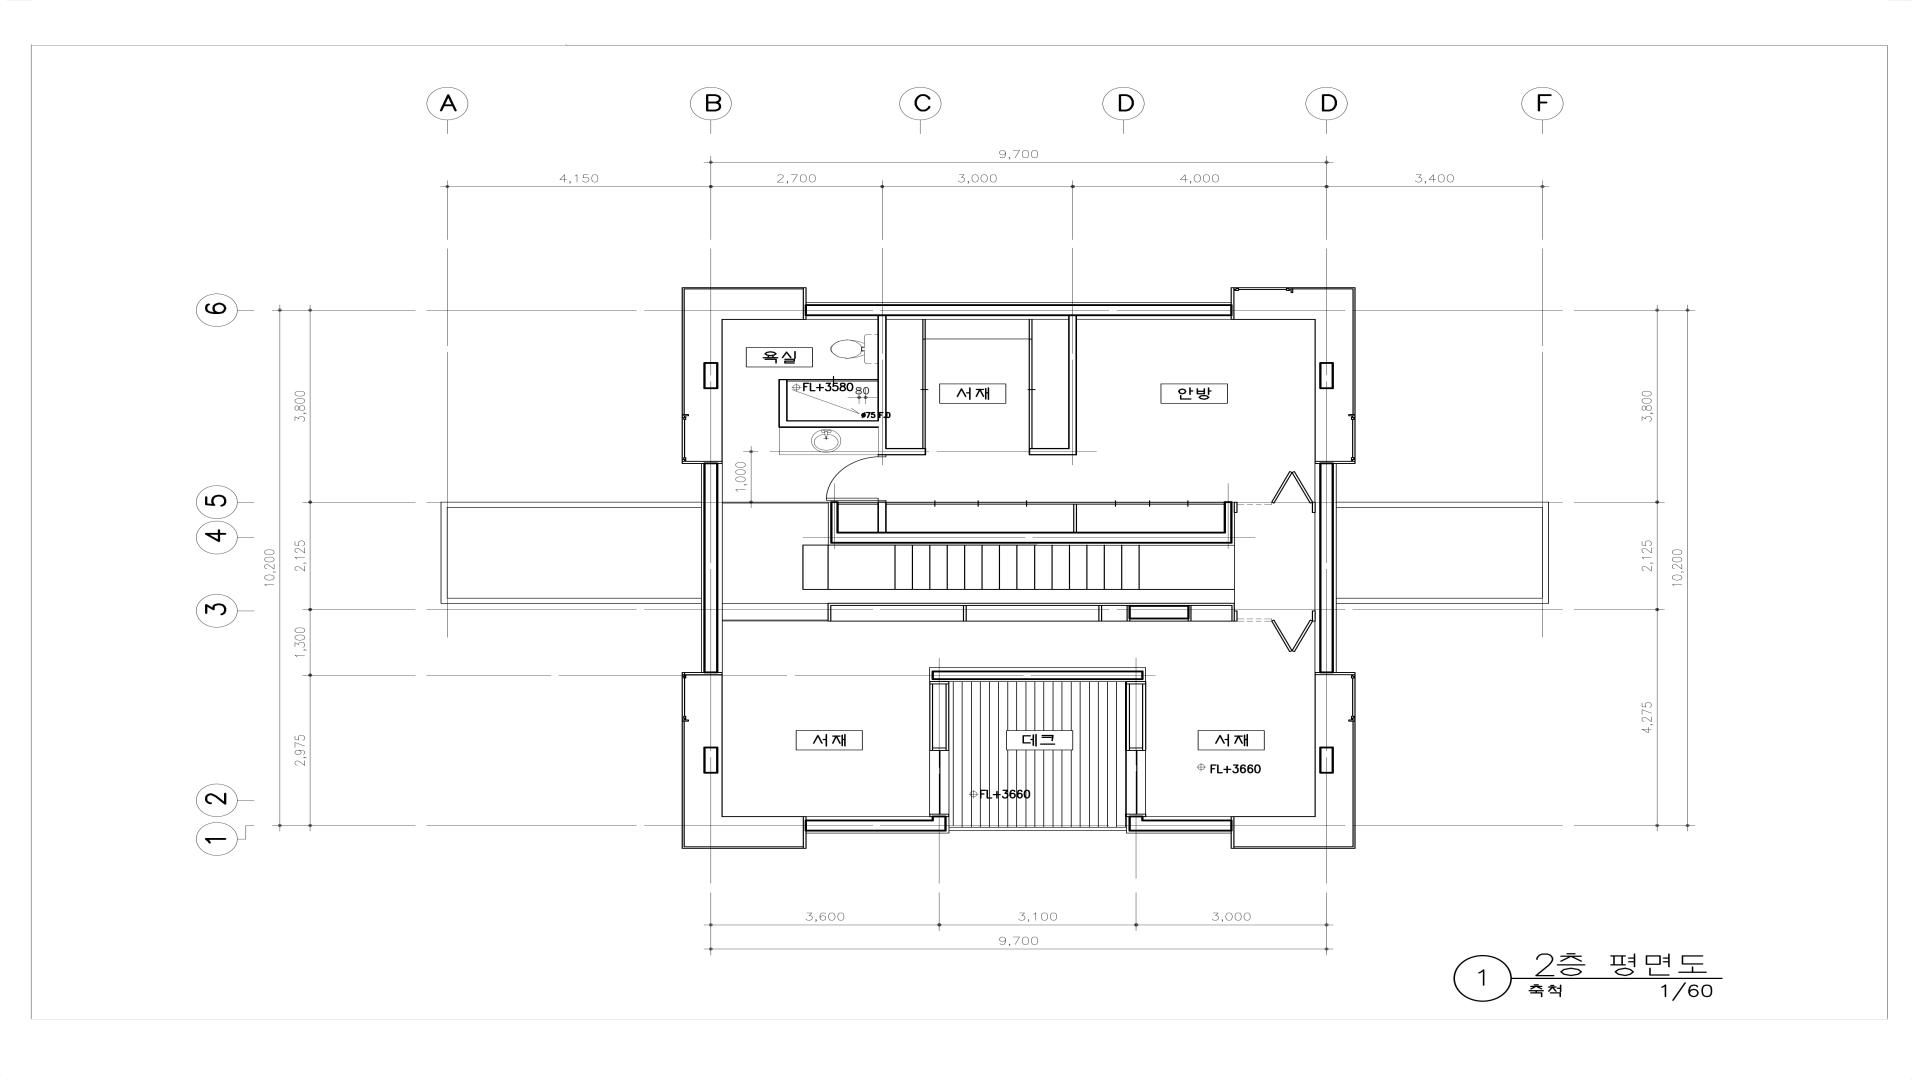door: (825, 455, 886, 501), (1125, 682, 1146, 750), (930, 682, 949, 750)
wall: (806, 305, 1230, 316), (839, 531, 1224, 543), (703, 464, 719, 673), (1320, 464, 1333, 673), (932, 671, 1143, 680), (807, 819, 931, 832), (877, 316, 886, 455), (1068, 316, 1077, 448), (1143, 819, 1230, 832), (1130, 605, 1188, 620), (789, 421, 878, 427), (778, 380, 789, 427), (1224, 501, 1233, 543), (829, 501, 839, 543), (1029, 448, 1077, 455), (877, 501, 886, 531), (886, 448, 926, 455), (931, 816, 947, 831), (1129, 816, 1143, 831)
window: (682, 673, 807, 849), (1230, 673, 1356, 849), (1230, 287, 1356, 464), (682, 287, 807, 464), (1233, 471, 1315, 513), (1234, 611, 1315, 653), (831, 605, 963, 621), (967, 605, 1098, 621), (1125, 750, 1146, 818), (930, 750, 949, 816), (1191, 607, 1232, 621), (1102, 607, 1126, 621)
